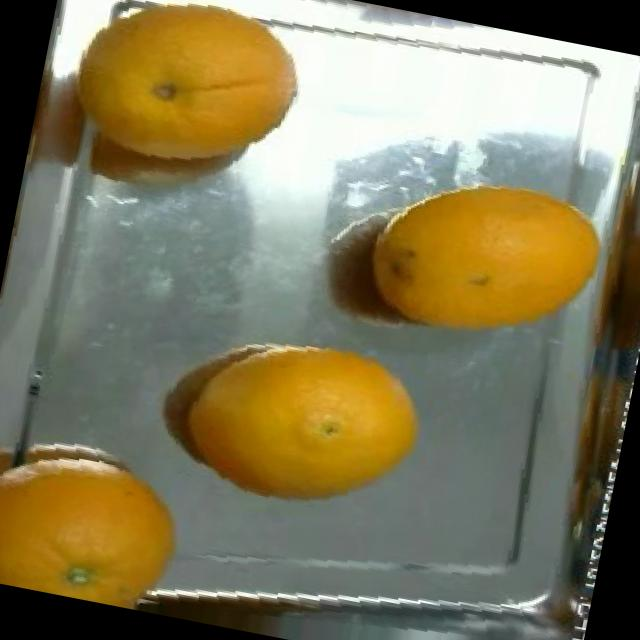Fruit: (384, 146, 622, 366)
